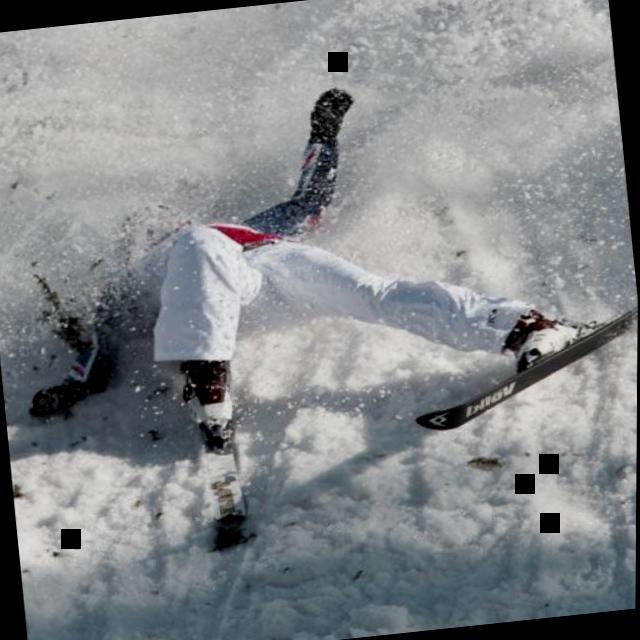Fall-Detected: (0, 40, 600, 534)
